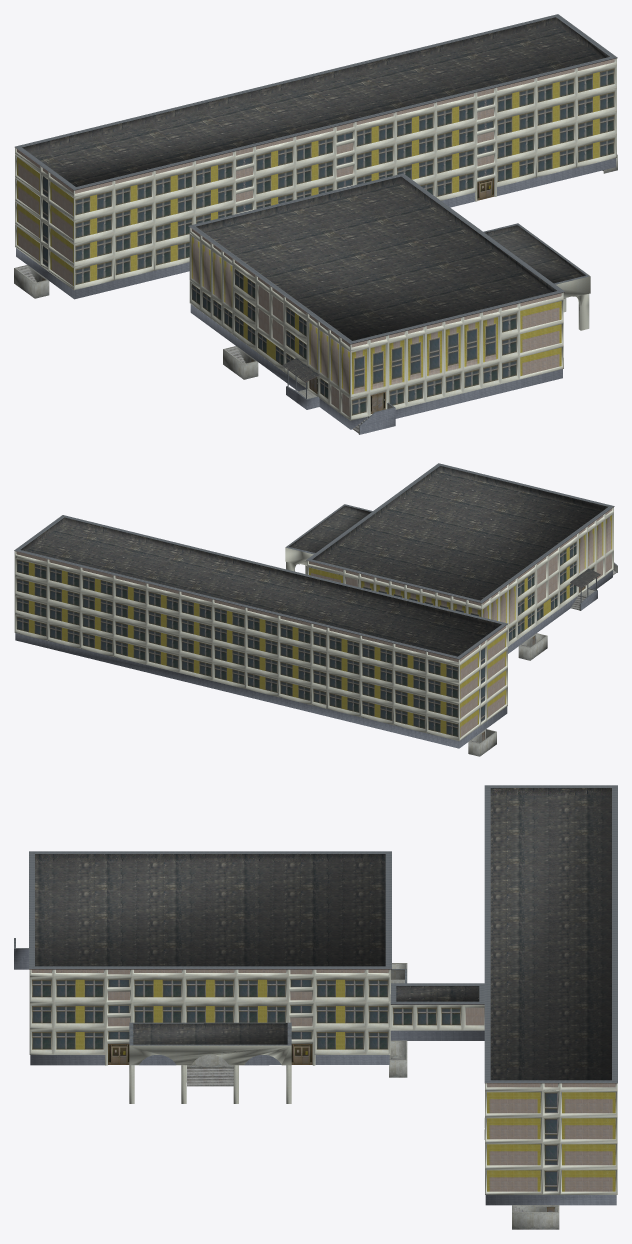
Rendered from school.glb.
3 views of the same model, one above another, from view 1: azimuth 30°, elevation 25°; view 2: azimuth 150°, elevation 25°; view 3: azimuth 270°, elevation 25° (orthographic). The views are drawn at different scales.
Parts seen in each view (by area): view 1: sch_1195_vol2_13, sch_1195_vol1_11, sch_1195_vol1_1, sch_1195_vol1_0, sch_1195_vol2_1, sch_1195_vol2_0, sch_1195_vol1_2, sch_1195_vol2_9, sch_1195_vol1_10, sch_1195_vol2_10, sch_1195_vol2_11, sch_1195_vol2_12 (+11 smaller); view 2: sch_1195_vol2_13, sch_1195_vol1_11, sch_1195_vol1_0, sch_1195_vol1_1, sch_1195_vol1_2, sch_1195_vol1_9, sch_1195_vol2_1, sch_1195_vol1_10, sch_1195_vol2_12, sch_1195_vol1_4, sch_1195_vol2_10, sch_1195_vol2_3 (+8 smaller); view 3: sch_1195_vol2_13, sch_1195_vol1_11, sch_1195_vol2_1, sch_1195_vol2_0, sch_1195_vol1_4, sch_1195_vol1_10, sch_1195_vol1_1, sch_1195_vol2_12, sch_1195_vol2_11, sch_1195_vol1_9, sch_1195_vol2_2, sch_1195_vol2_16 (+8 smaller).
Part boxes in pixels (<box>): sch_1195_vol2_13: <box>196,176,585,381</box>; sch_1195_vol1_11: <box>22,17,609,186</box>; sch_1195_vol1_1: <box>15,58,616,290</box>; sch_1195_vol1_0: <box>75,68,614,285</box>; sch_1195_vol2_1: <box>189,227,590,420</box>; sch_1195_vol2_0: <box>192,269,516,415</box>; sch_1195_vol1_2: <box>90,72,599,281</box>; sch_1195_vol2_9: <box>350,314,500,397</box>; sch_1195_vol1_10: <box>15,14,617,189</box>; sch_1195_vol2_10: <box>189,234,350,397</box>; sch_1195_vol2_11: <box>190,304,562,434</box>; sch_1195_vol2_12: <box>189,173,589,426</box>; sch_1195_vol2_13: <box>289,466,608,600</box>; sch_1195_vol1_11: <box>20,517,501,656</box>; sch_1195_vol1_0: <box>16,559,458,736</box>; sch_1195_vol1_1: <box>14,551,507,741</box>; sch_1195_vol1_2: <box>29,562,446,733</box>; sch_1195_vol1_9: <box>15,633,507,748</box>; sch_1195_vol2_1: <box>285,507,613,646</box>; sch_1195_vol1_10: <box>14,515,507,659</box>; sch_1195_vol2_12: <box>285,463,617,603</box>; sch_1195_vol1_4: <box>460,632,506,737</box>; sch_1195_vol2_10: <box>482,512,613,627</box>; sch_1195_vol2_3: <box>309,509,612,605</box>; sch_1195_vol2_13: <box>35,854,385,1044</box>; sch_1195_vol1_11: <box>396,788,611,1080</box>; sch_1195_vol2_1: <box>29,969,463,1103</box>; sch_1195_vol2_0: <box>32,979,460,1049</box>; sch_1195_vol1_4: <box>487,1092,615,1191</box>; sch_1195_vol1_10: <box>391,785,617,1082</box>; sch_1195_vol1_1: <box>463,1005,617,1194</box>; sch_1195_vol2_12: <box>14,851,406,1045</box>; sch_1195_vol2_11: <box>14,949,389,1065</box>; sch_1195_vol1_9: <box>390,1030,616,1205</box>; sch_1195_vol2_2: <box>75,979,344,1049</box>; sch_1195_vol2_16: <box>16,948,407,1077</box>.
Bounding box in the file's own units: 76.83 × 16.1 × 62.96.
38 materials, 38 textured.
